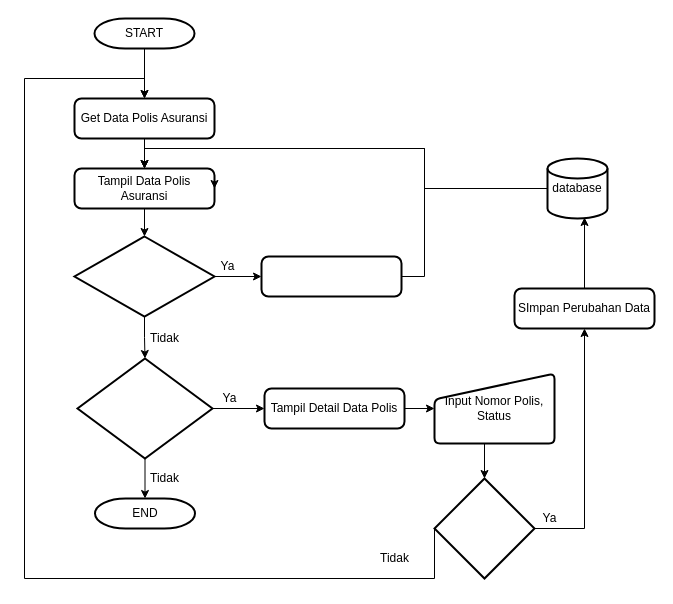
Some shapes in this 673 by 604 pixel diagram are drawn without their labels. The centre of each missing label's shape, as x and y in pixels:
"Filter Data" belongs at point (144, 276).
"Proses Data ?" belongs at point (144, 408).
"Search Data Polis Asuransi" belongs at point (331, 276).
"Simpan Data ?" belongs at point (484, 528).
